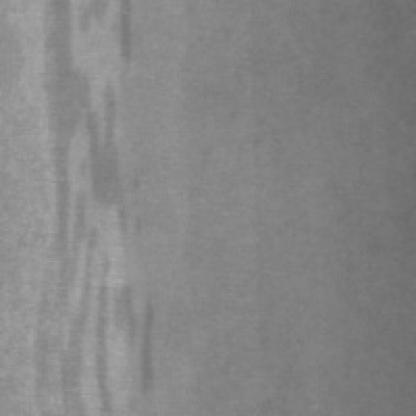inclusion: (44, 0, 160, 408)
